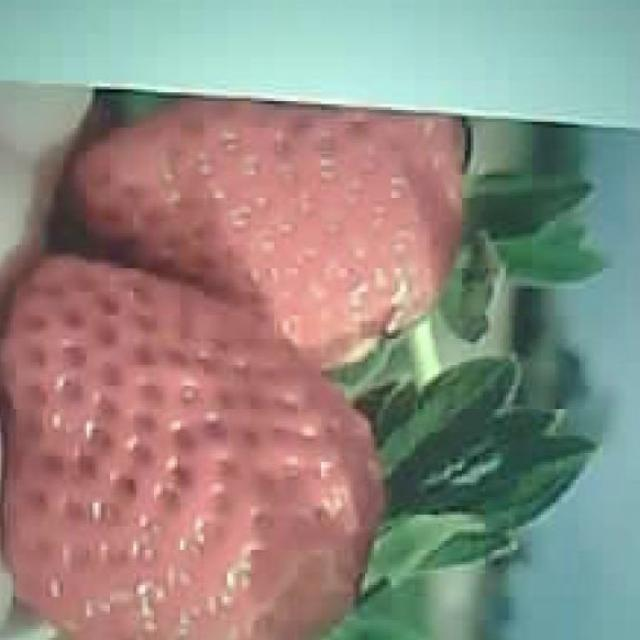Healthy Fruit: (1, 251, 387, 638), (68, 96, 468, 370)
